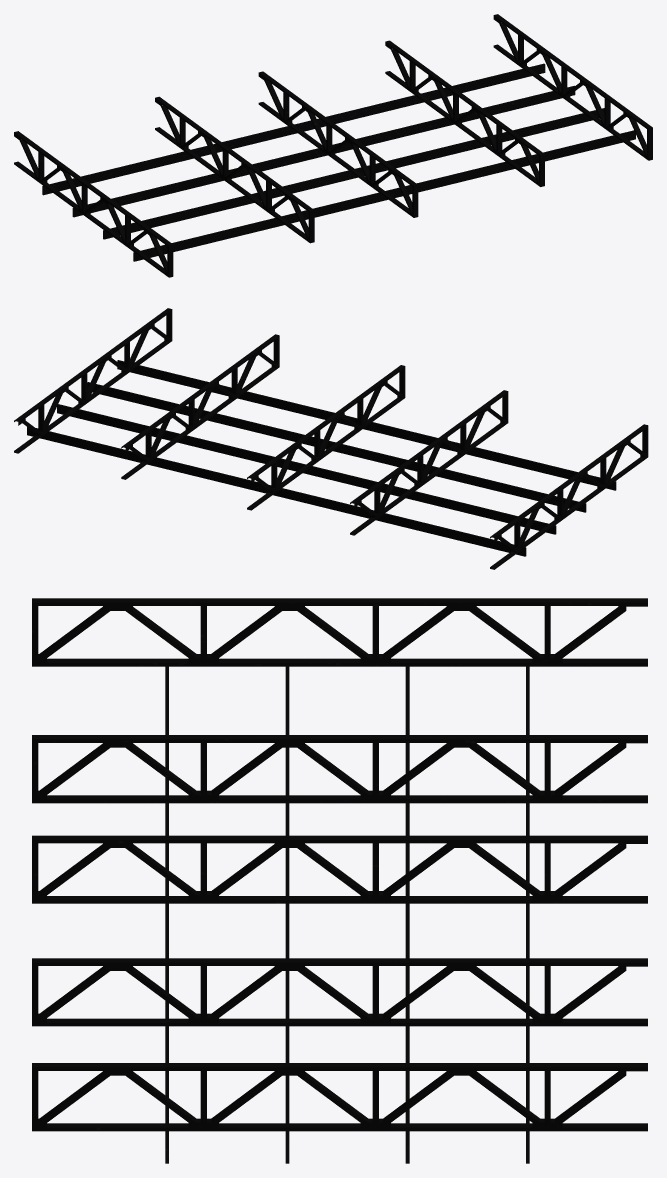
File: ey_verse_rafters.glb
3 views of the same model, one above another, from view 1: azimuth 30°, elevation 25°; view 2: azimuth 150°, elevation 25°; view 3: azimuth 270°, elevation 25° (orthographic). The views are drawn at different scales.
Parts seen in each view (by area): view 1: ey_verse_rafters; view 2: ey_verse_rafters; view 3: ey_verse_rafters.
Part boxes in pixels (bbox=[...]): ey_verse_rafters: bbox=[14, 14, 652, 277]; ey_verse_rafters: bbox=[14, 308, 648, 569]; ey_verse_rafters: bbox=[32, 598, 647, 1163].
Size of the model in its own units: 23.1 by 1.78 by 12.62.
1 material, 1 textured.
